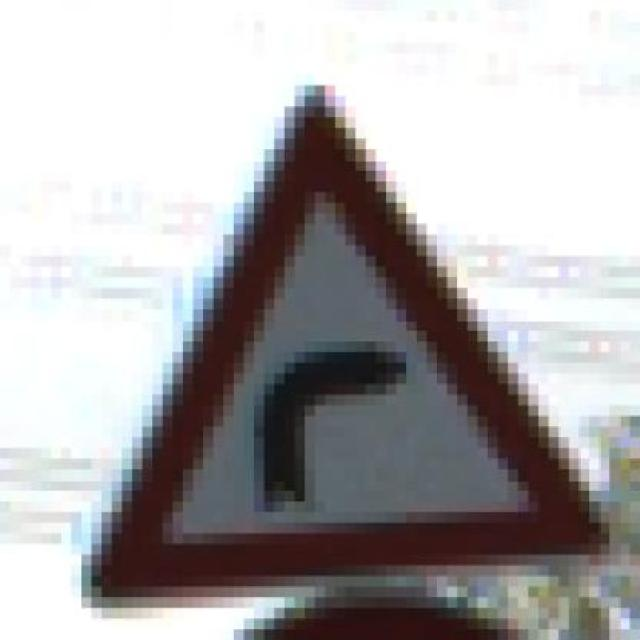Dangerous Rright Curve Ahead: (51, 64, 600, 587)
